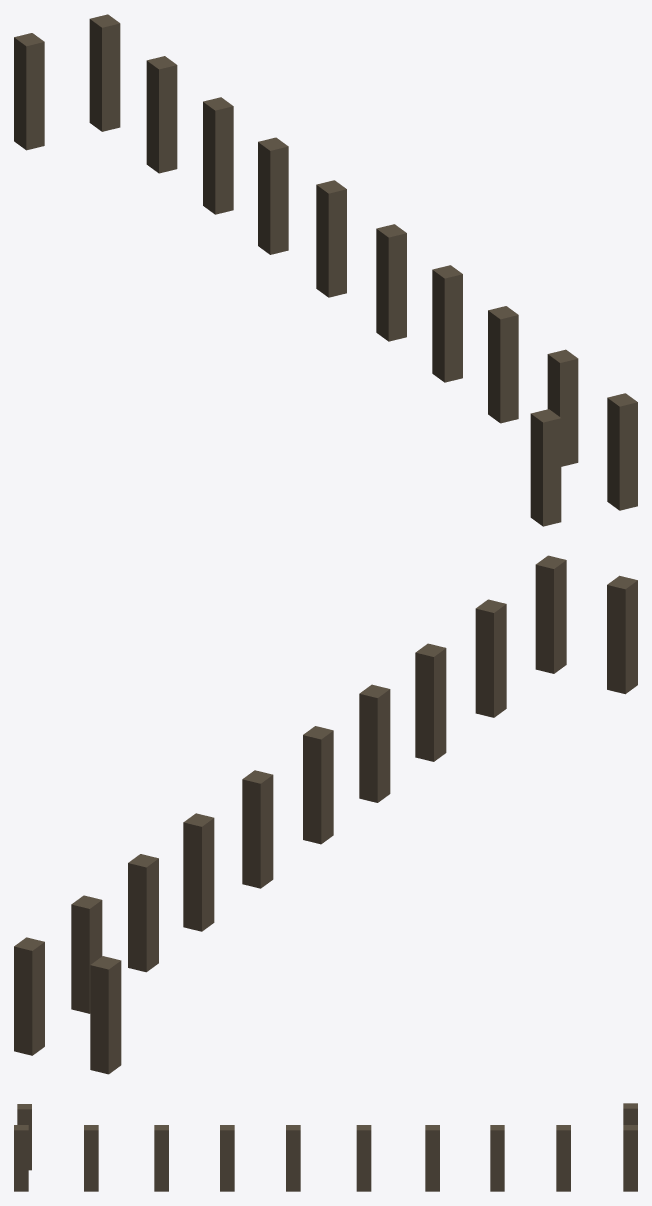
Rendered from TableLegs.fbx.
The picture shows the model from 3 angles, top to bottom: view 1: azimuth 30°, elevation 25°; view 2: azimuth 150°, elevation 25°; view 3: azimuth 270°, elevation 25°; orthographic projection. The views are drawn at different scales.
Visible parts, largest first — view 1: TableLegs; view 2: TableLegs; view 3: TableLegs.
Part boxes in pixels (x1=…): TableLegs: x1=14, y1=14, x2=637, y2=526; TableLegs: x1=14, y1=555, x2=637, y2=1074; TableLegs: x1=14, y1=1103, x2=637, y2=1191.
Bounding box in the file's own units: 0.9457 × 1 × 9.23.
